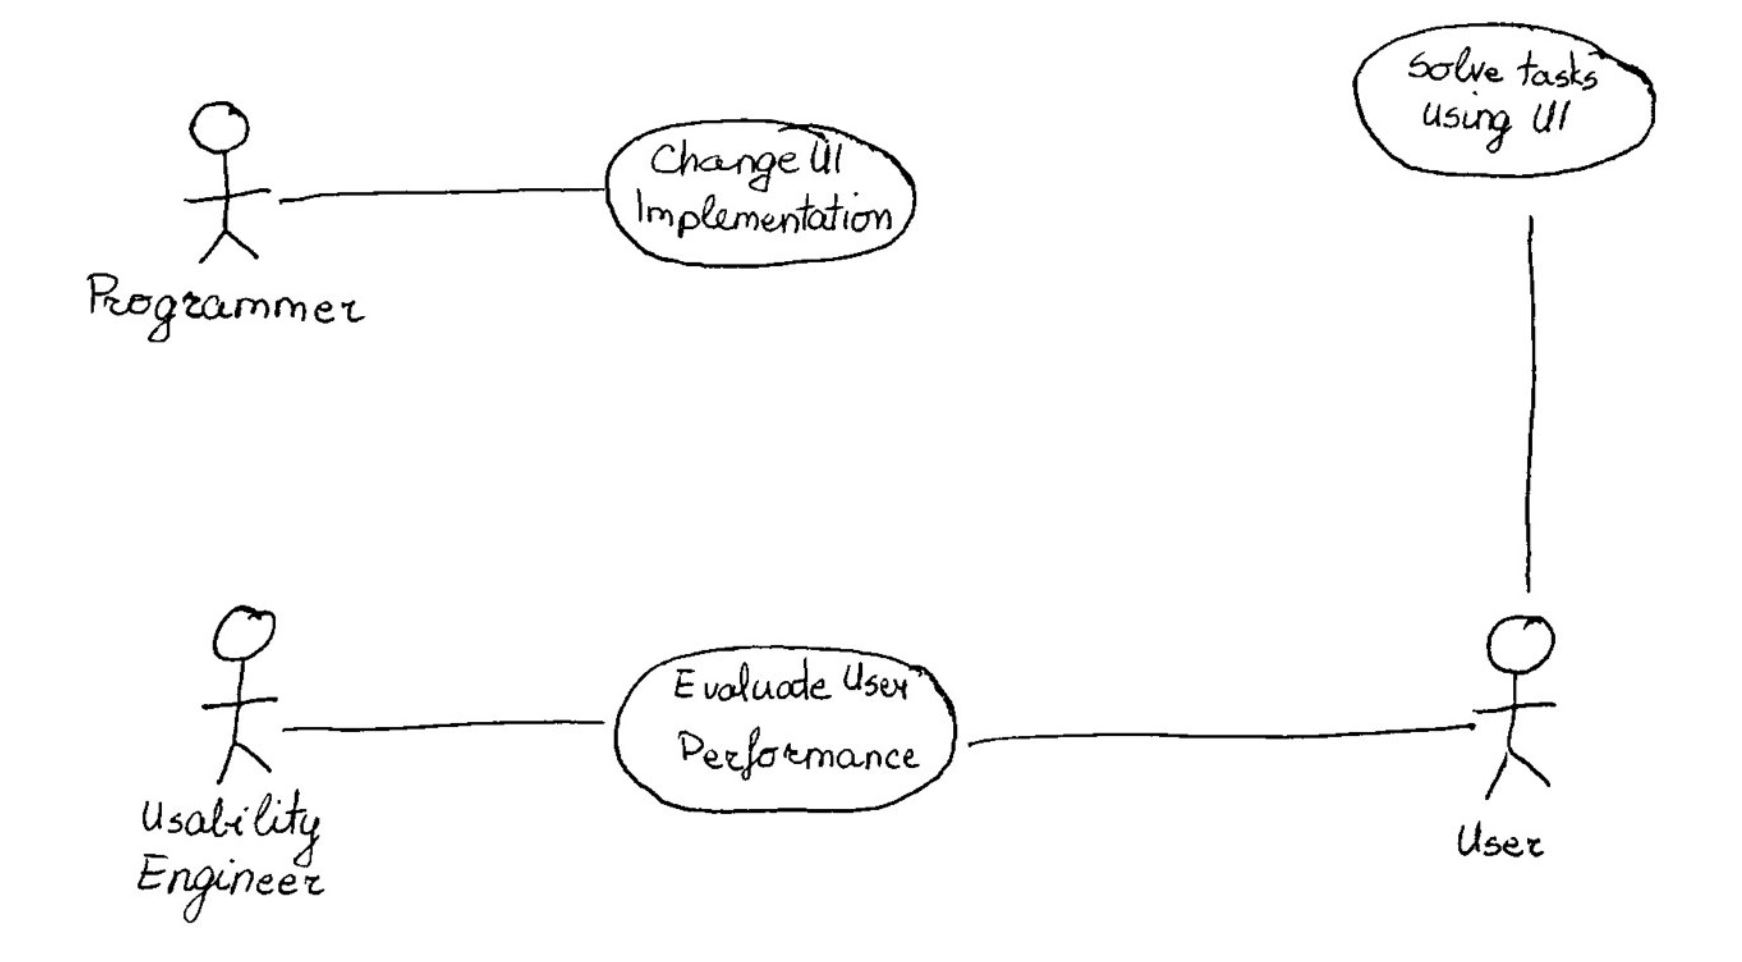actor: (189, 601, 290, 788), (178, 94, 281, 267), (1474, 613, 1560, 808)
association: (964, 708, 1477, 762), (277, 166, 603, 214), (1512, 212, 1545, 604), (282, 712, 612, 740)
text: (662, 661, 928, 787), (635, 135, 893, 240), (129, 789, 332, 918), (1402, 43, 1598, 150), (81, 271, 377, 341), (1449, 810, 1568, 878)
use_case: (611, 642, 958, 816), (604, 116, 915, 271), (1351, 21, 1658, 177)
